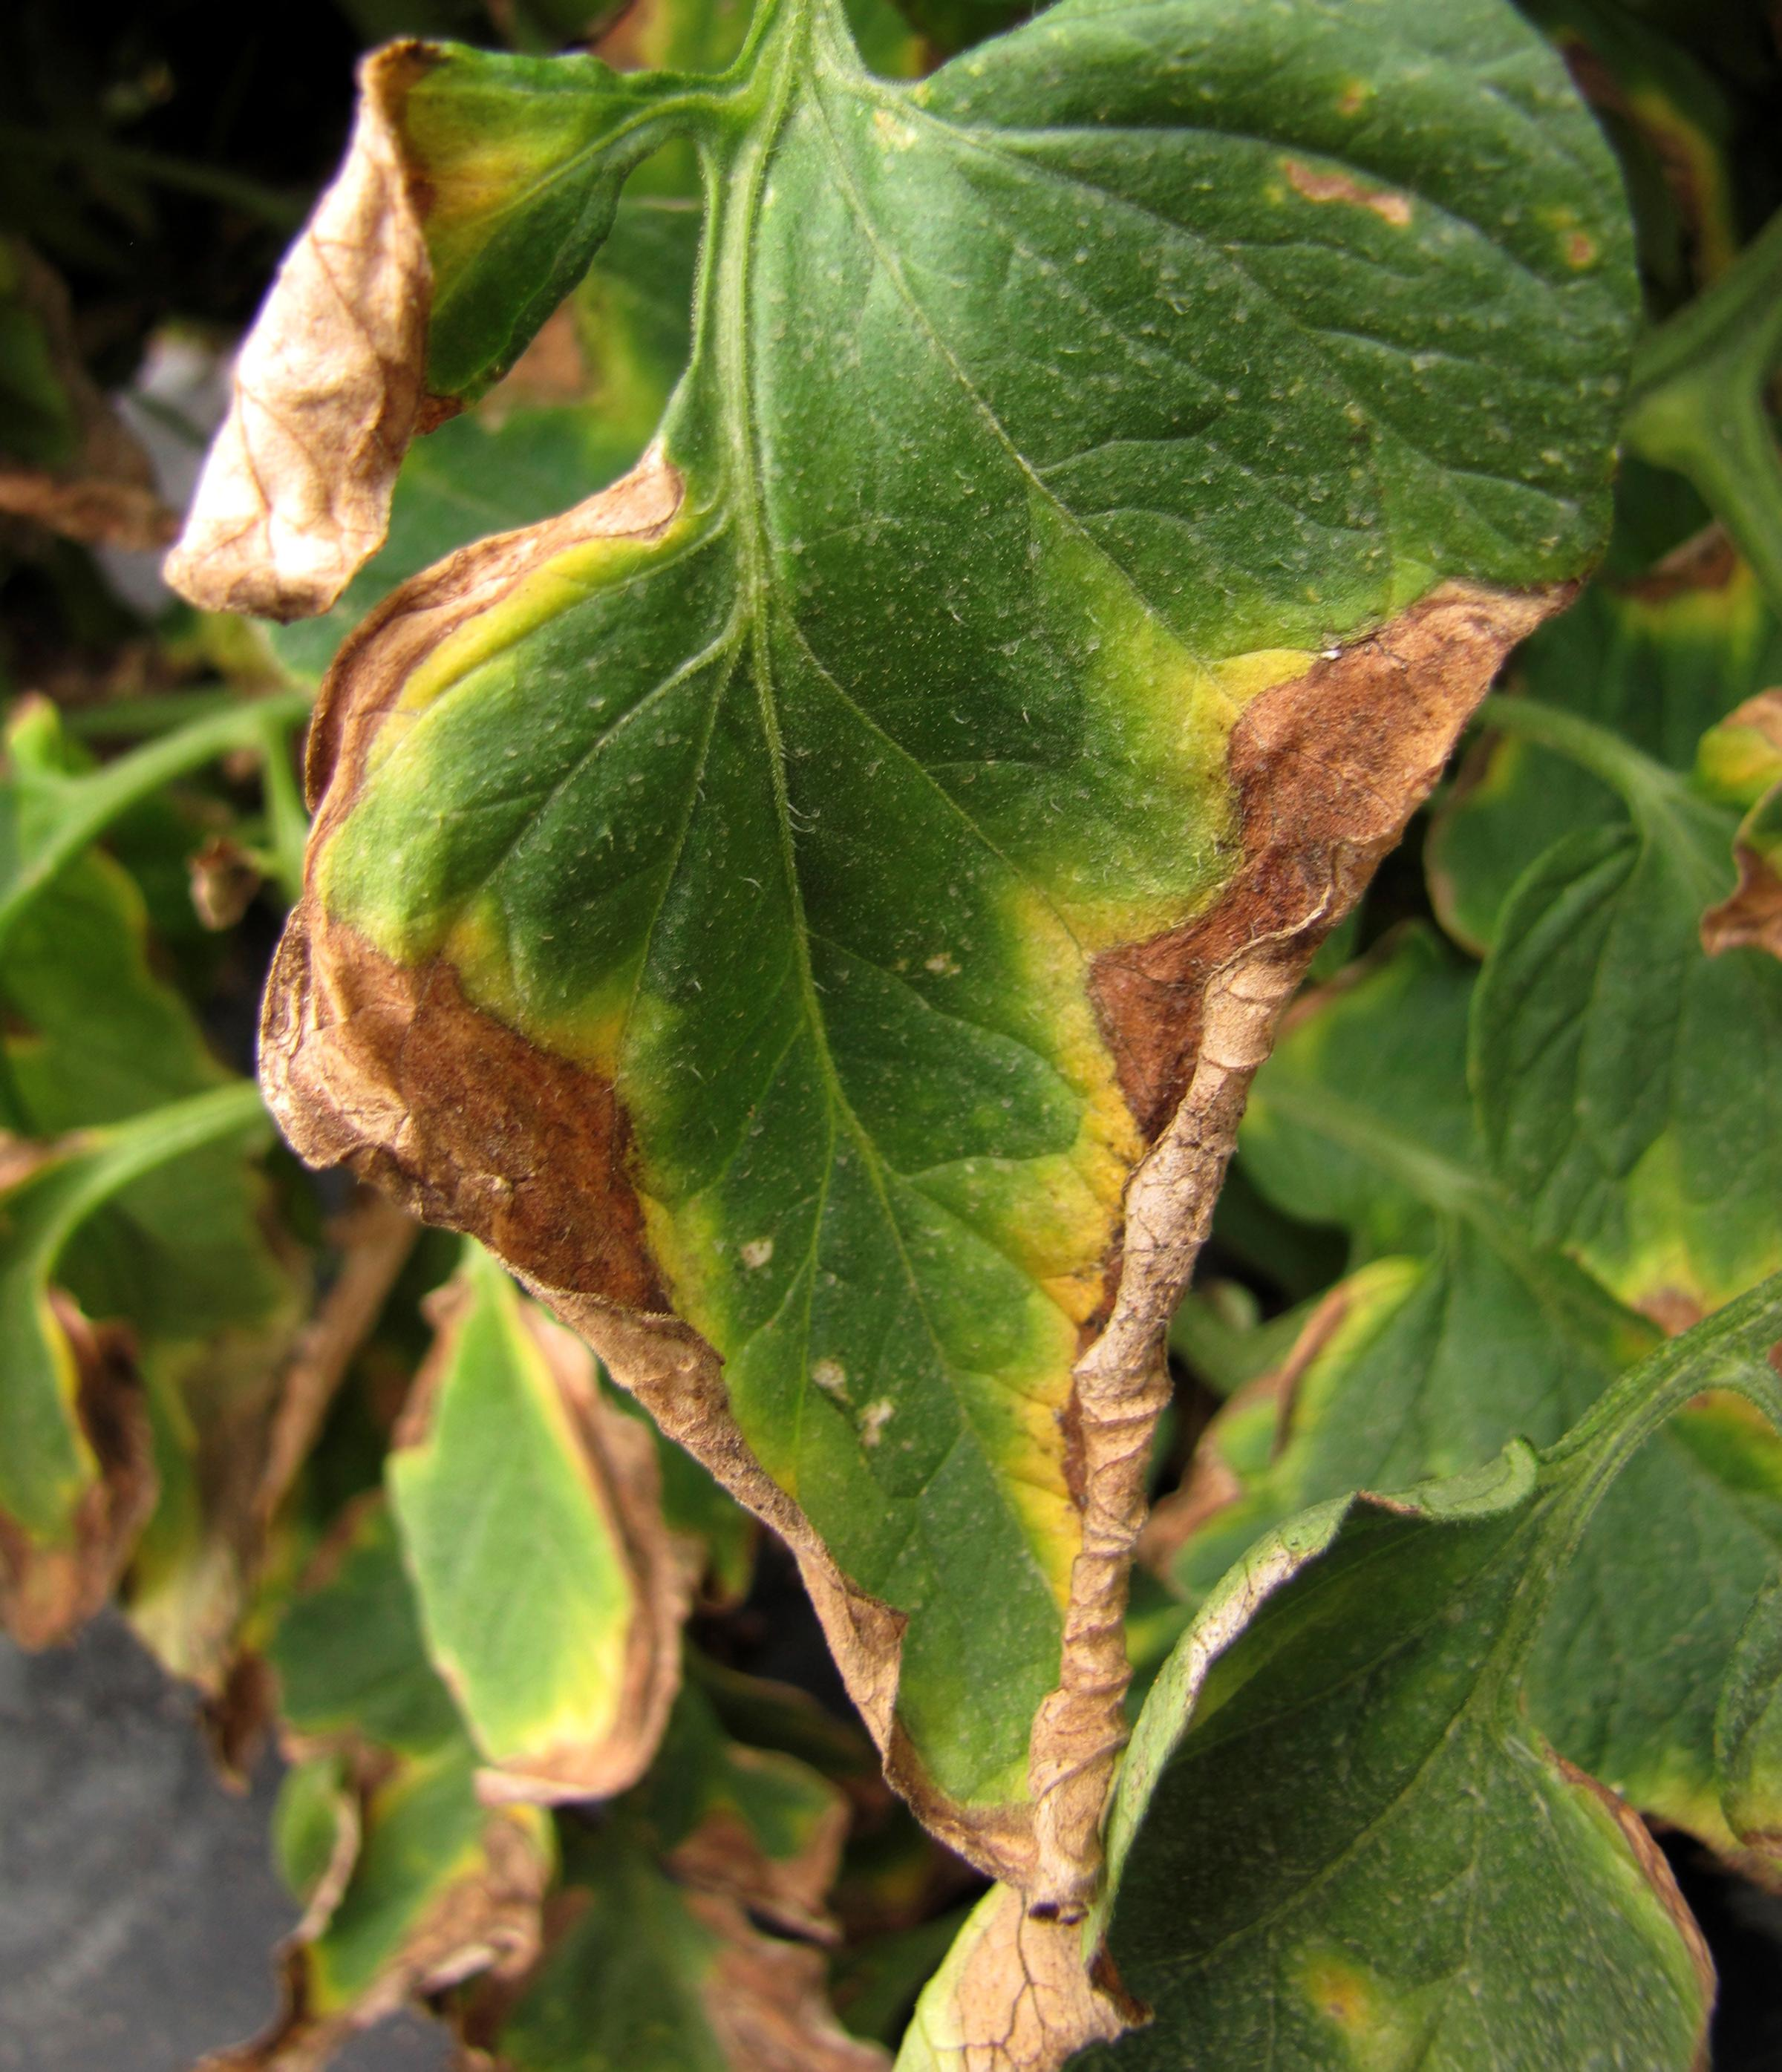Tomato leaf bacterial spot: (126, 17, 1685, 1946)
